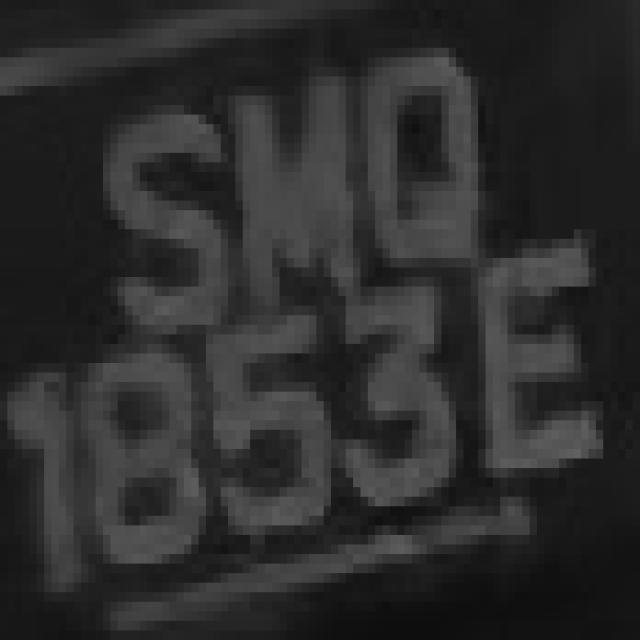1: (15, 325, 88, 640)
3: (316, 277, 456, 544)
5: (191, 287, 346, 506)
8: (74, 344, 198, 573)
E: (470, 229, 610, 506)
M: (198, 86, 346, 315)
Q: (324, 48, 493, 315)
S: (74, 95, 220, 344)
